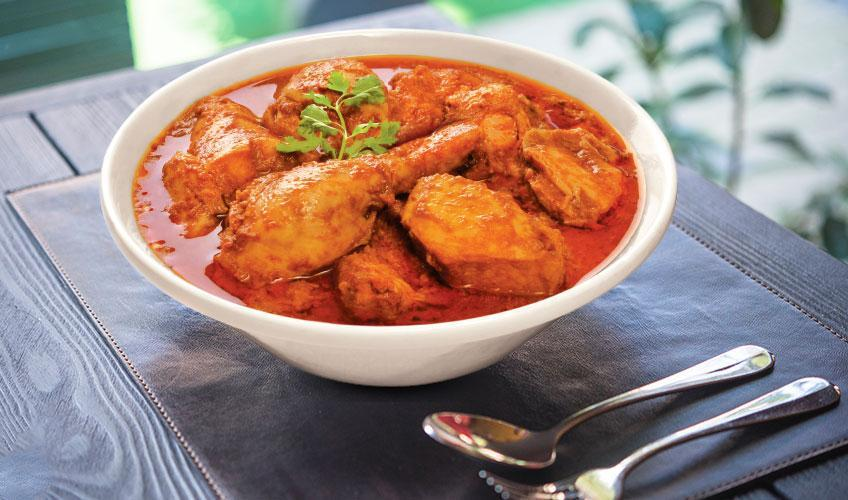chicken: (104, 32, 650, 324)
